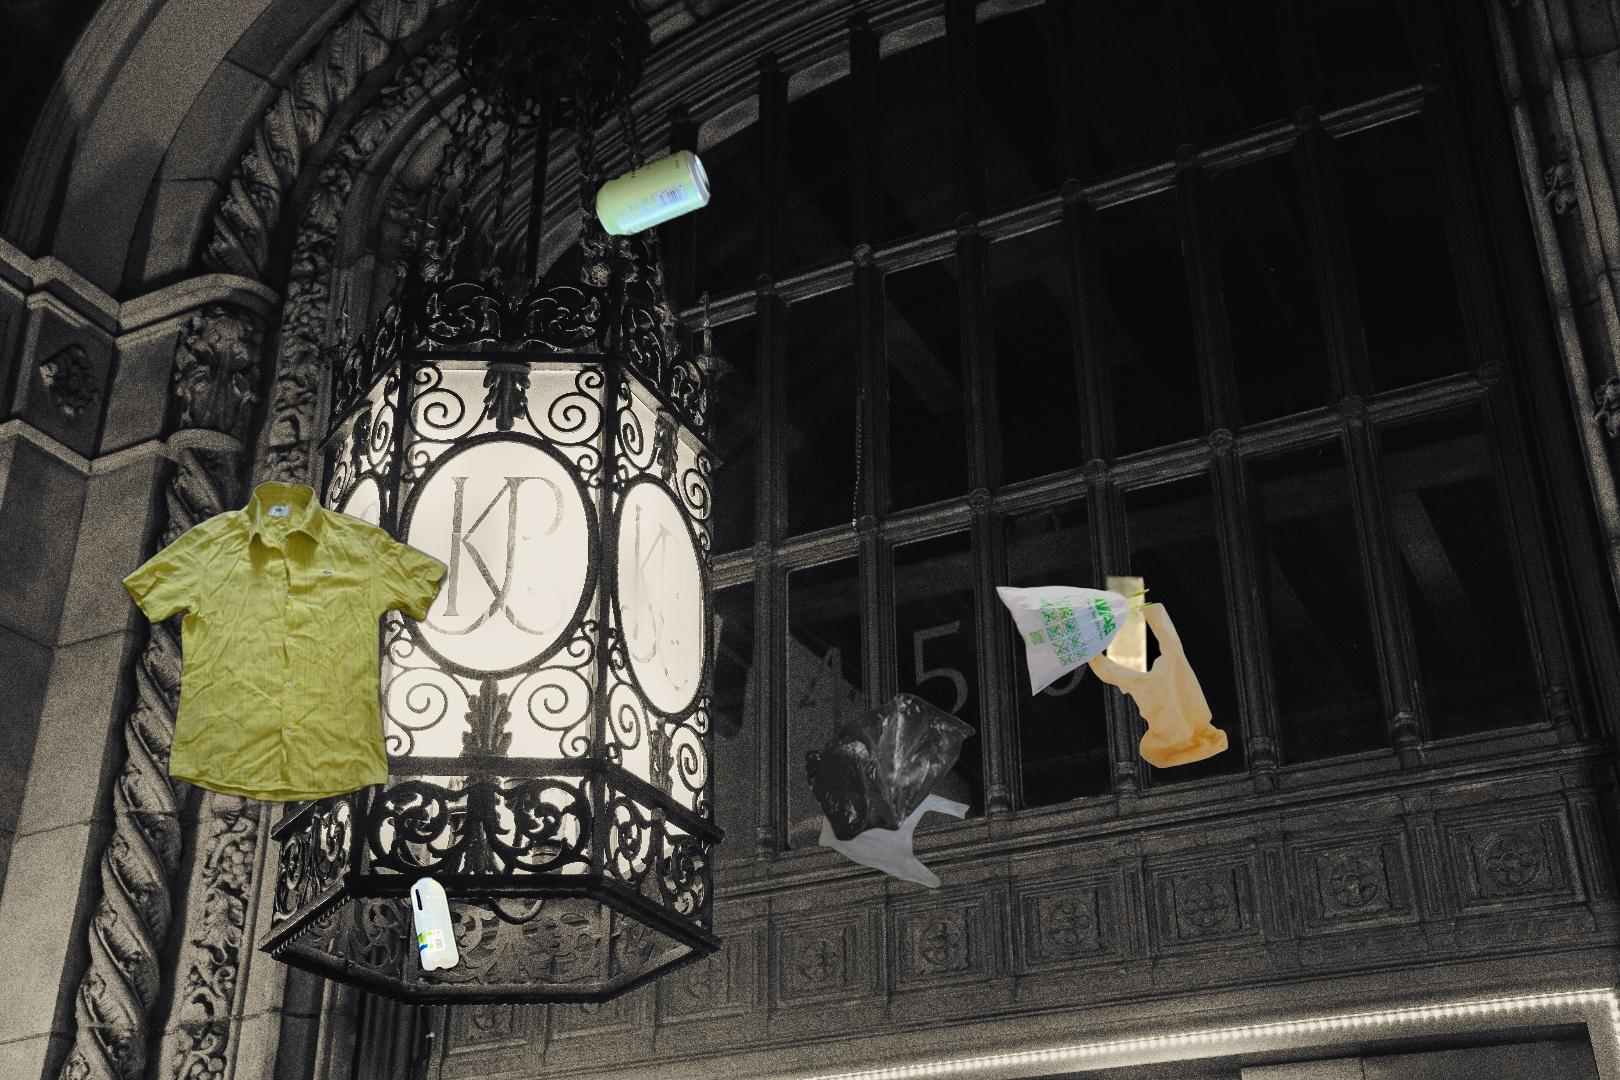clothes: (118, 475, 452, 808)
metal-cans: (589, 143, 715, 242)
plastic-bag: (994, 571, 1232, 770), (803, 689, 979, 890)
plastic-bottles: (406, 871, 464, 978)
